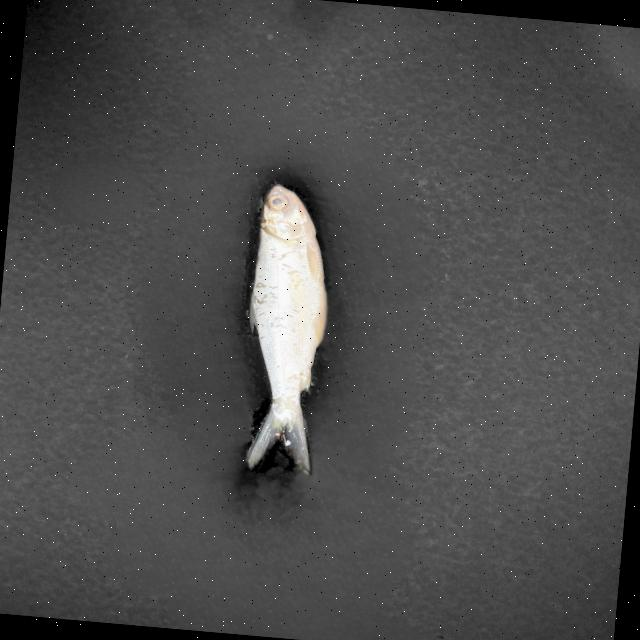410 g: (235, 182, 338, 474)
